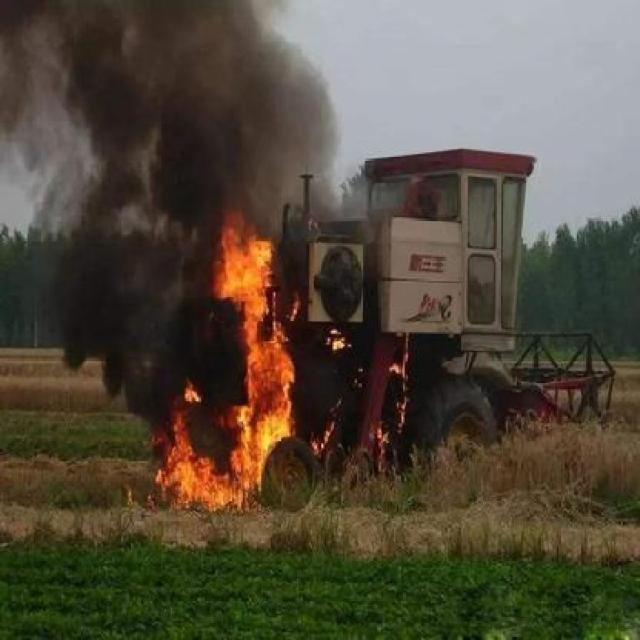Fire: (141, 202, 295, 538), (372, 324, 425, 476), (310, 402, 340, 460), (322, 318, 355, 362)
Smoke: (2, 0, 348, 205)
